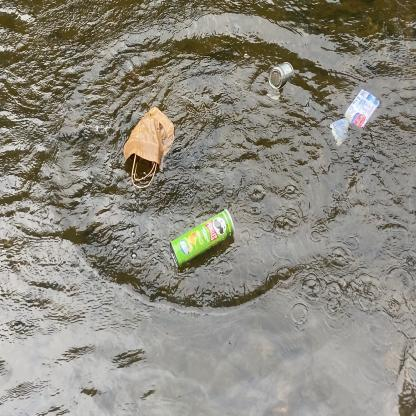trash: (119, 102, 176, 194), (168, 204, 236, 273), (326, 86, 382, 151), (264, 60, 298, 94)
